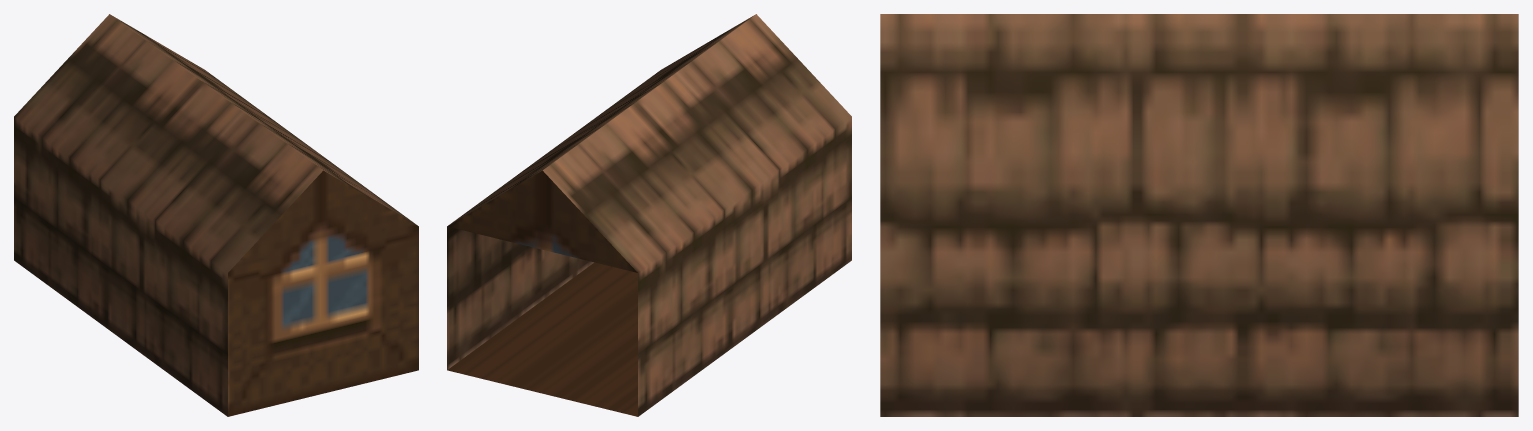
Rendered from lookout_window_02.fbx.
The picture shows the model from 3 angles, left to right: view 1: azimuth 30°, elevation 25°; view 2: azimuth 150°, elevation 25°; view 3: azimuth 270°, elevation 25°; orthographic projection. The views are drawn at different scales.
Visible parts, largest first — view 1: lookout_window_02; view 2: lookout_window_02; view 3: lookout_window_02.
Part boxes in pixels (x1,y1,x2,y2): lookout_window_02: (14,14,418,416); lookout_window_02: (447,14,851,416); lookout_window_02: (880,14,1518,416).
Bounding box in the file's own units: 25.1 × 28.01 × 48.63.
